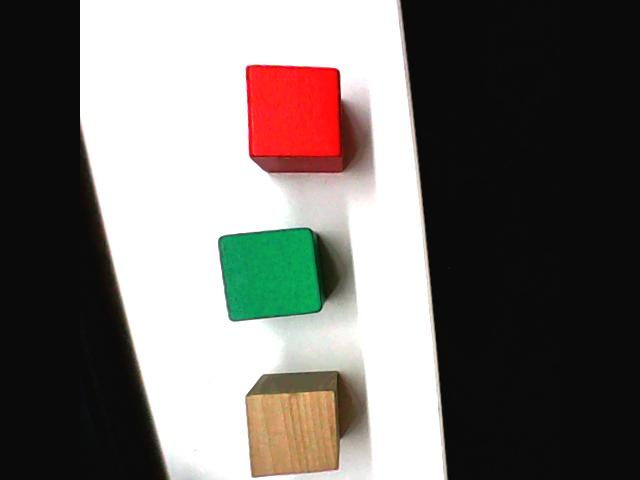green_box: (214, 224, 328, 324)
raw_box: (244, 364, 350, 480)
red_box: (241, 60, 347, 176)
